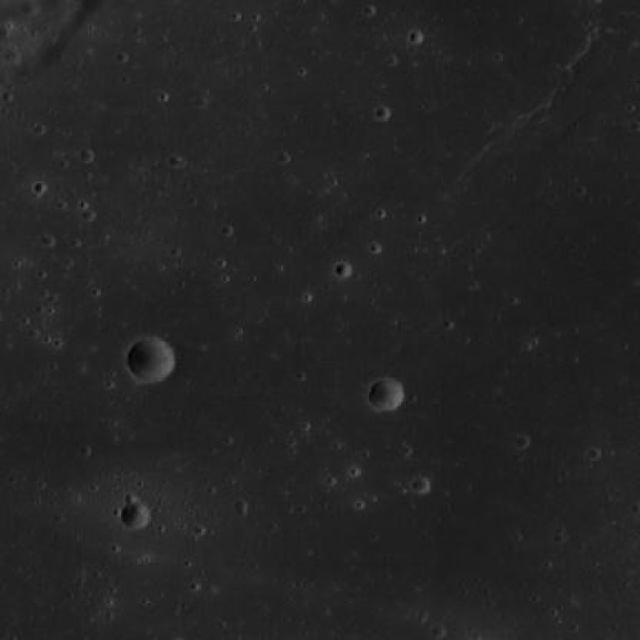crater: (126, 336, 174, 381), (368, 376, 403, 410), (120, 501, 152, 530), (412, 475, 430, 493), (4, 48, 21, 64), (20, 0, 37, 15)
